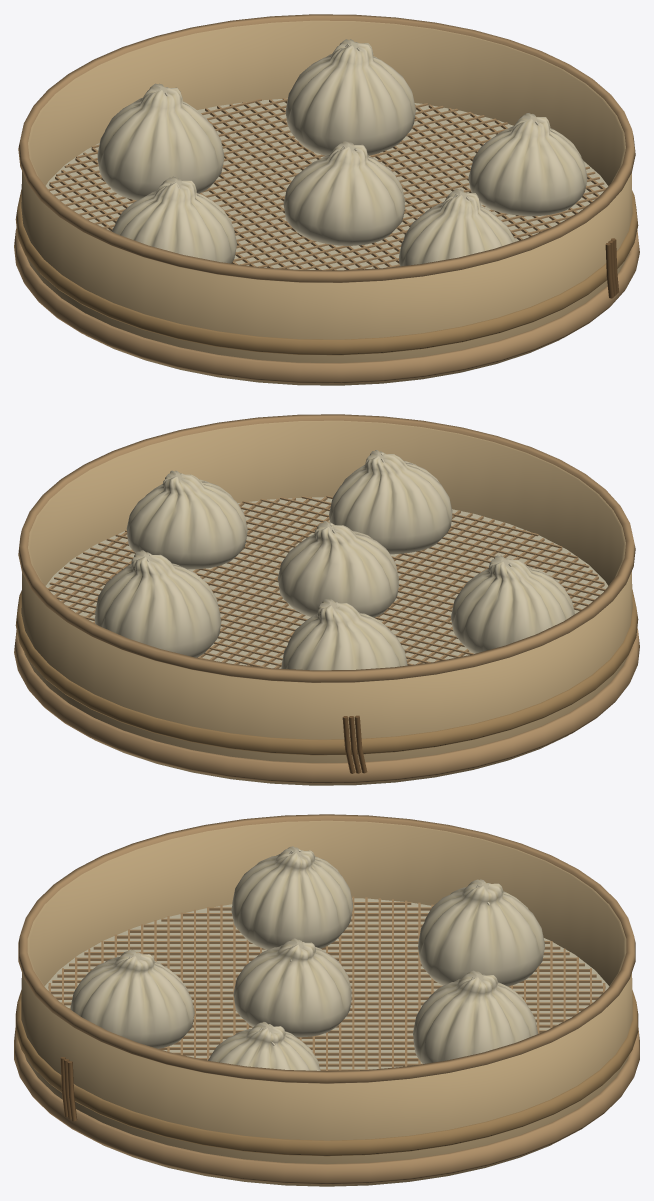
The model's file is buns.glb.
The picture shows the model from 3 angles, top to bottom: view 1: azimuth 30°, elevation 25°; view 2: azimuth 150°, elevation 25°; view 3: azimuth 270°, elevation 25°; orthographic projection.
Visible parts, largest first — view 1: Tianjin_buns; view 2: Tianjin_buns; view 3: Tianjin_buns.
Part boxes in pixels (x1,y1,x2,y2): Tianjin_buns: [14, 14, 639, 385]; Tianjin_buns: [14, 414, 639, 785]; Tianjin_buns: [14, 814, 639, 1186].
Size of the model in its own units: 0.366 by 0.0856 by 0.3652.
